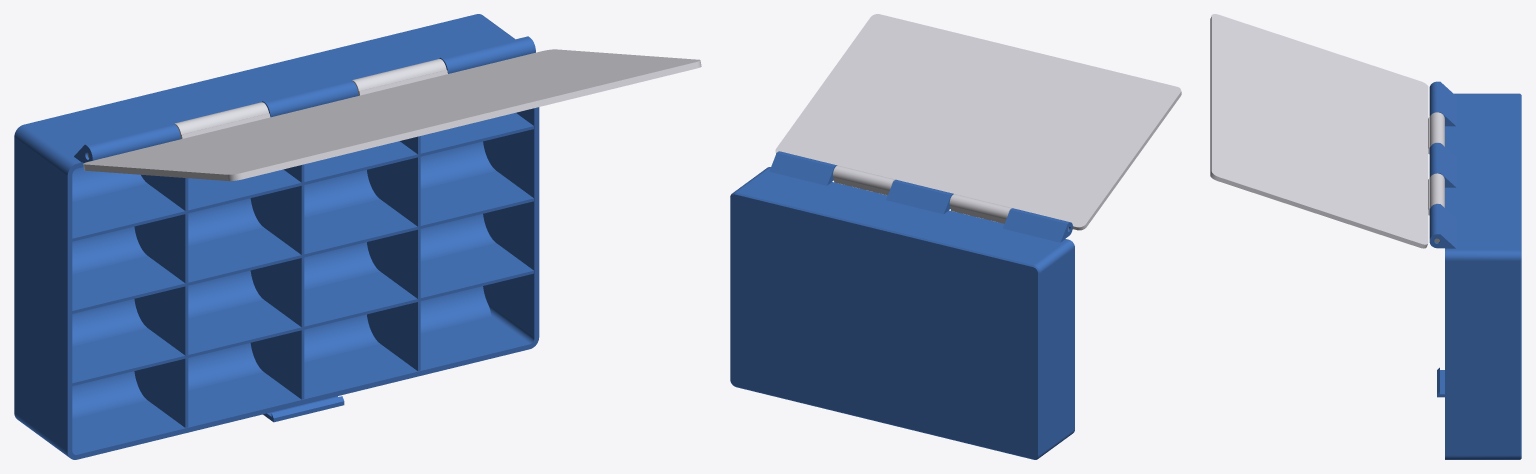
File: variant-COLS_4-ROWS_4.glb
The picture shows the model from 3 angles, left to right: view 1: azimuth 30°, elevation 25°; view 2: azimuth 150°, elevation 25°; view 3: azimuth 270°, elevation 25°; orthographic projection. The views are drawn at different scales.
Visible parts, largest first — view 1: 0:Kasten, 1:Deckel; view 2: 0:Kasten, 1:Deckel; view 3: 1:Deckel, 0:Kasten.
Boxes of the visible parts, box(x1,y1,x2,y2) form: 0:Kasten: box(14, 14, 539, 459); 1:Deckel: box(83, 49, 701, 181); 0:Kasten: box(730, 151, 1074, 459); 1:Deckel: box(775, 14, 1181, 230); 1:Deckel: box(1210, 14, 1444, 248); 0:Kasten: box(1429, 81, 1521, 459).
Size of the model in its own units: 200 by 167 by 162.
